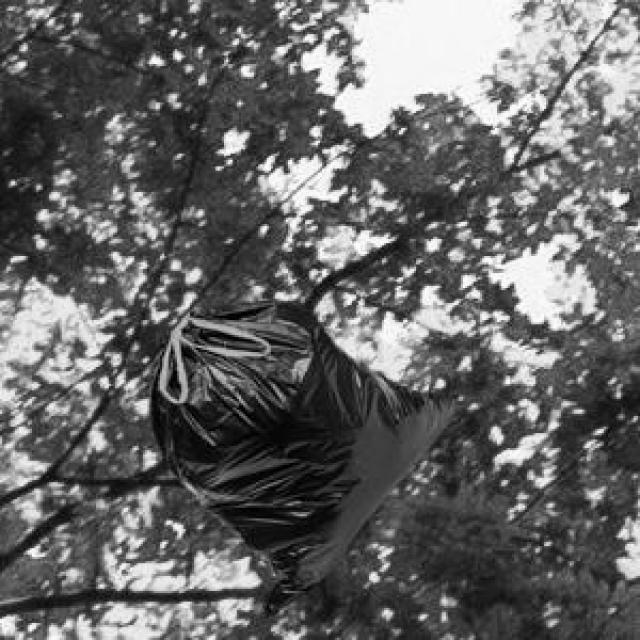miscellaneous trash: (145, 294, 454, 614)
